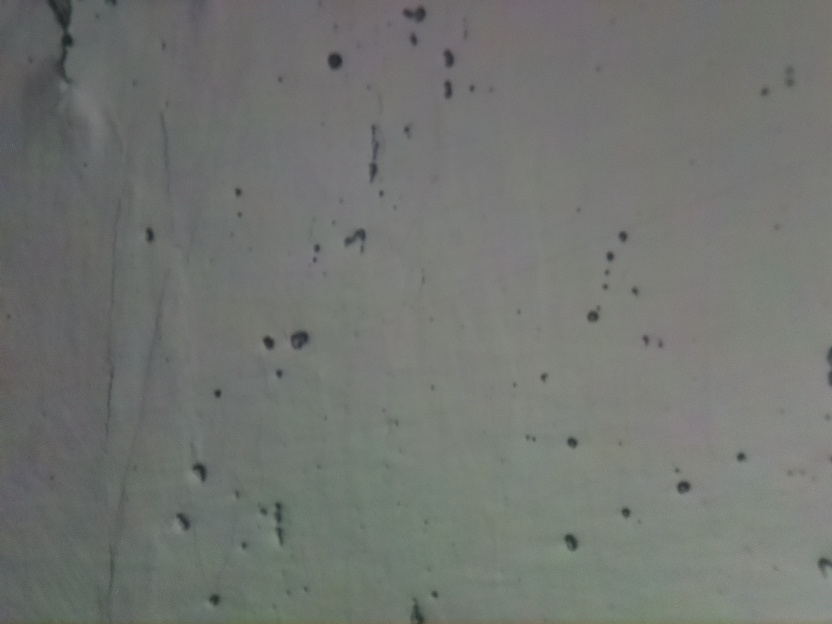crack: (44, 0, 78, 83)
